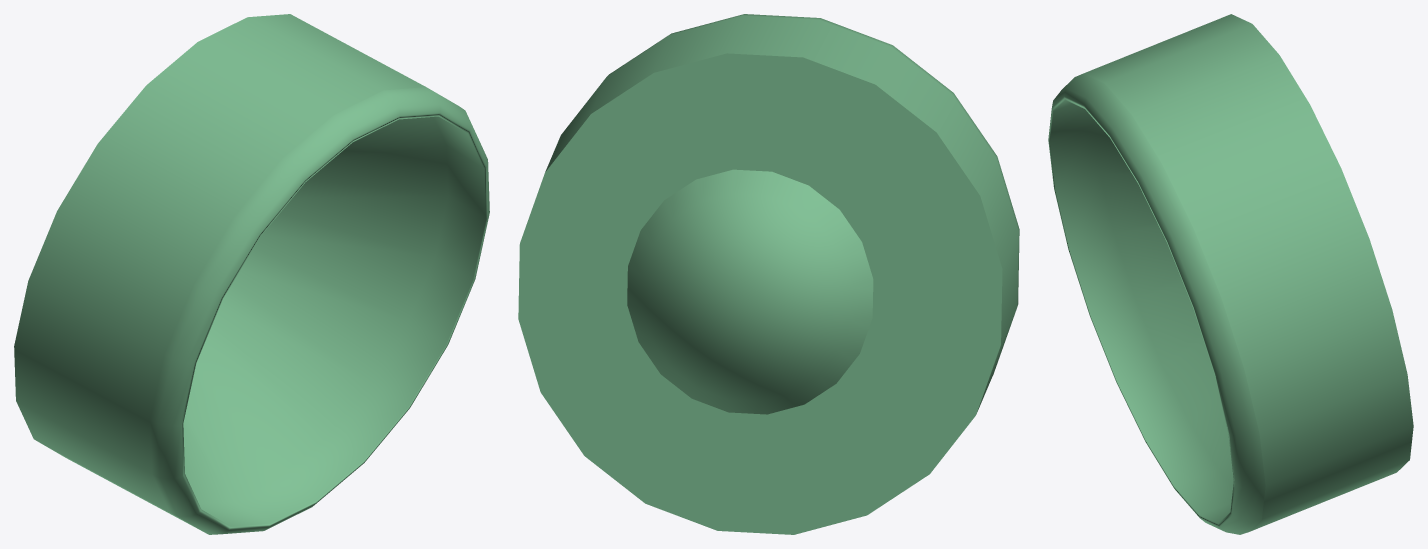
The model's file is BR2_8shapes_Round_Classic_Metal.001 3.glb.
The picture shows the model from 3 angles, left to right: view 1: azimuth 30°, elevation 25°; view 2: azimuth 150°, elevation 25°; view 3: azimuth 270°, elevation 25°; orthographic projection. The views are drawn at different scales.
Visible parts, largest first — view 1: BR2_8shapes_Round_Classic_Metal.001; view 2: BR2_8shapes_Round_Classic_Metal.001; view 3: BR2_8shapes_Round_Classic_Metal.001.
Part boxes in pixels (left/top/right/bottom): BR2_8shapes_Round_Classic_Metal.001: left=14, top=14, right=489, bottom=534; BR2_8shapes_Round_Classic_Metal.001: left=518, top=14, right=1019, bottom=534; BR2_8shapes_Round_Classic_Metal.001: left=1048, top=14, right=1413, bottom=534.
Bounding box in the file's own units: 0.5261 × 0.506 × 0.364.
